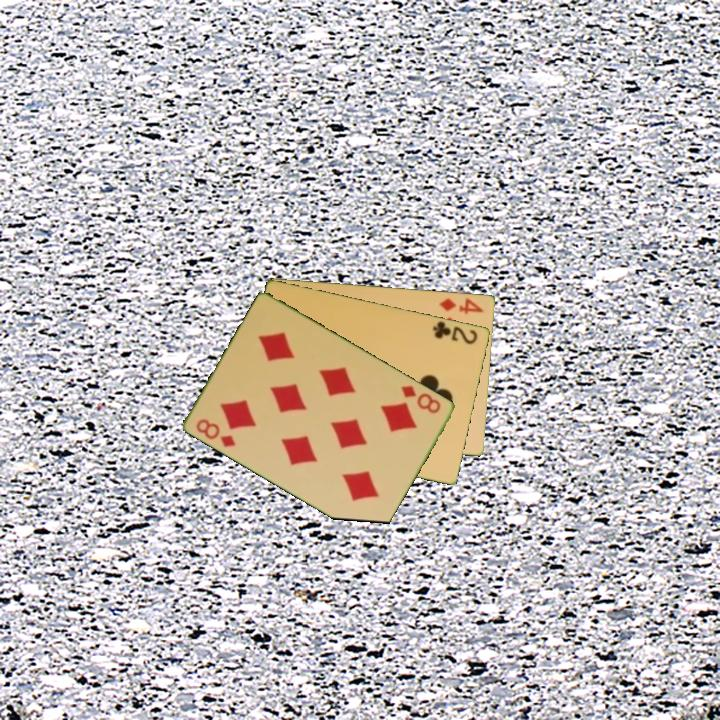2c: (430, 318, 481, 347)
4d: (436, 294, 487, 317)
8d: (193, 415, 239, 451), (398, 381, 444, 416)
